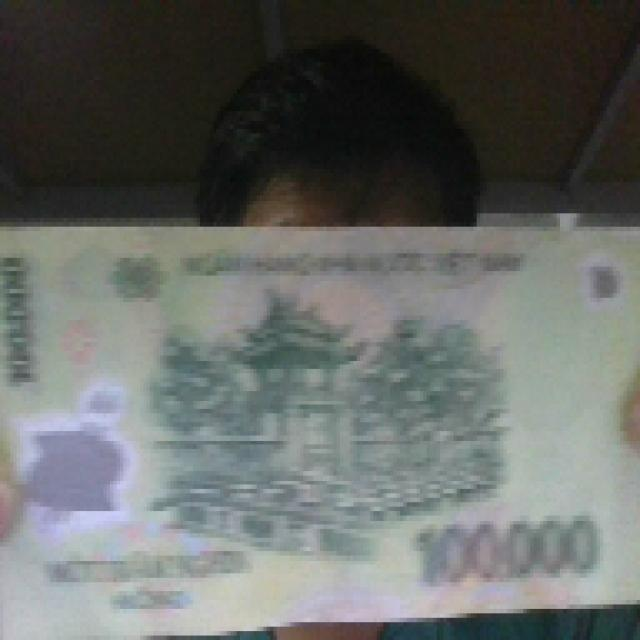100 000 VND: (0, 214, 637, 636)
